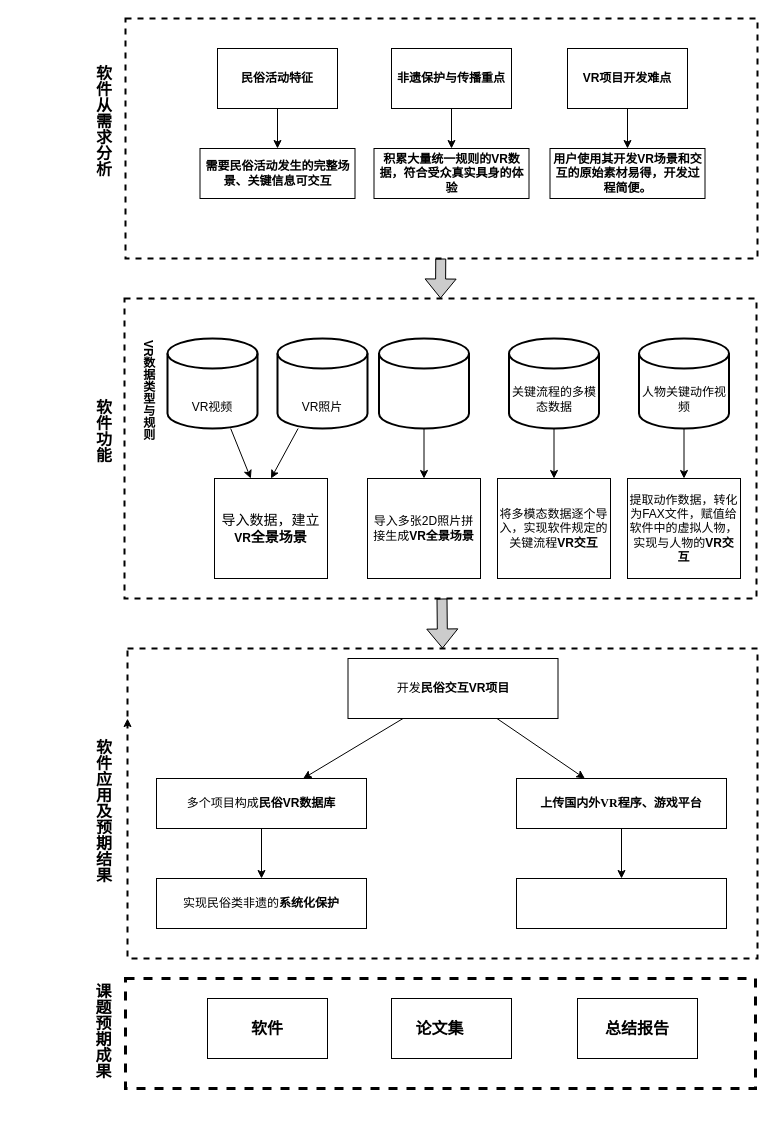
The diagram is 775 pixels wide and 1138 high, and some of its shapes have lost their labels. Here are the shapes that lost their labels. From the top down, the centre of each, then its label:
At point (424, 383): "多张2D照片".
At point (621, 903): "实现我国民俗类非遗的 国内外广泛传播".
